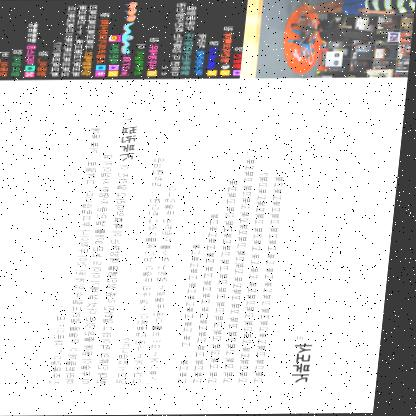streamer: (300, 0, 416, 16)
